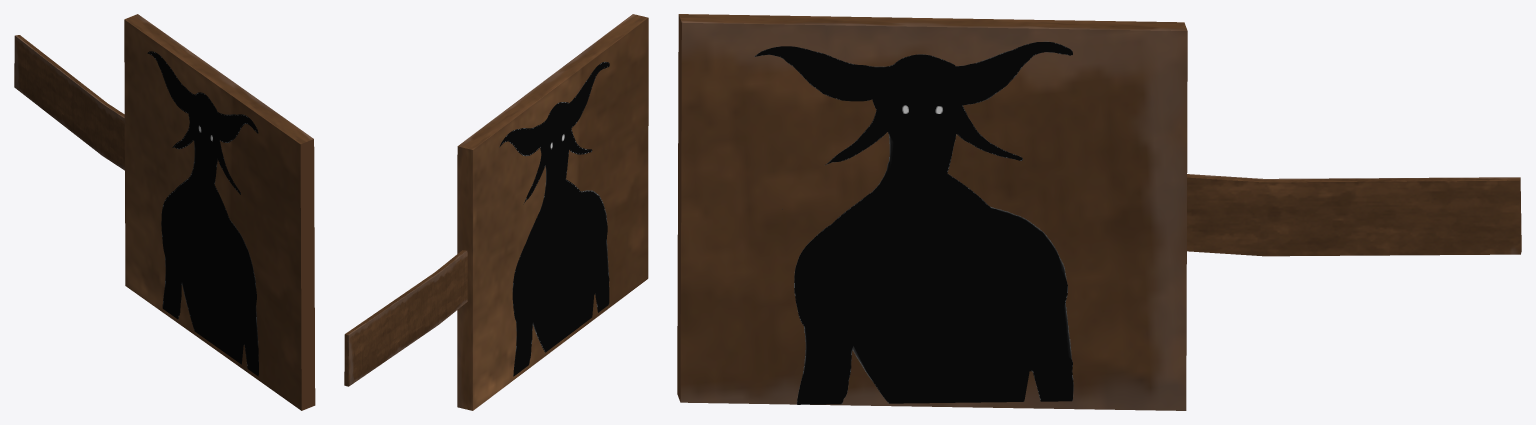
Rendered from Placa.fbx.
3 renders of one model, left to right at view 1: azimuth 30°, elevation 25°; view 2: azimuth 150°, elevation 25°; view 3: azimuth 270°, elevation 25°, orthographic. The views are drawn at different scales.
Visible parts, largest first — view 1: Cube.009; view 2: Cube.009; view 3: Cube.009.
Part boxes in pixels (bbox=[...]): Cube.009: bbox=[14, 14, 315, 410]; Cube.009: bbox=[344, 14, 648, 410]; Cube.009: bbox=[677, 14, 1521, 410].
Size of the model in its own units: 19.22 by 224 by 442.
